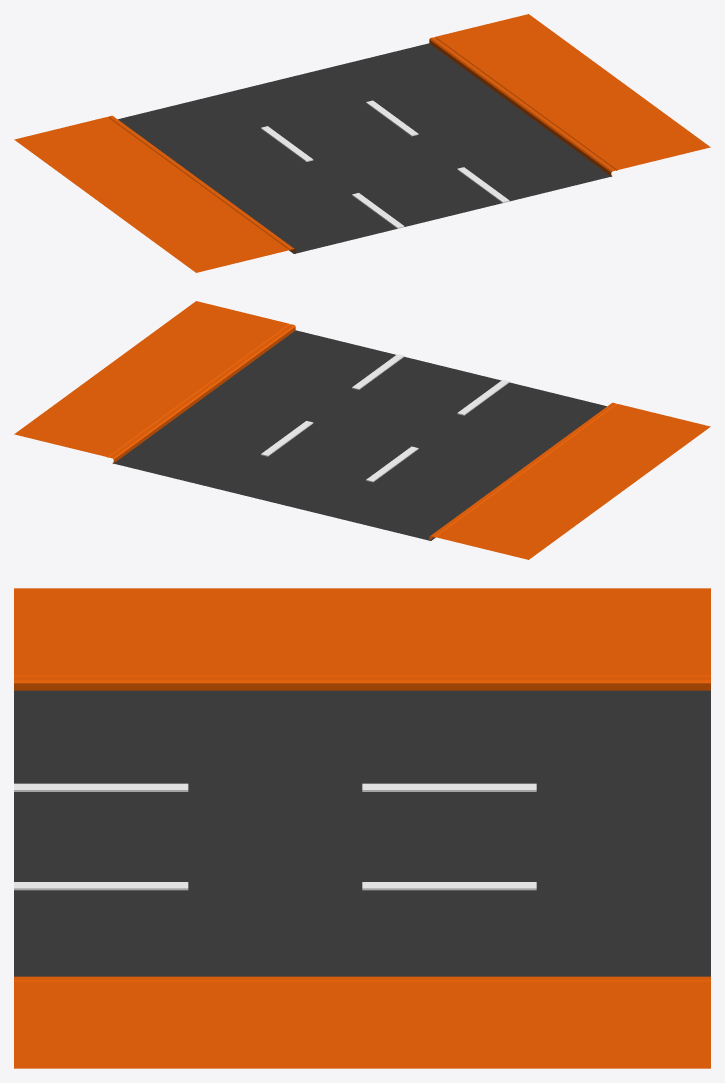
File: SM_Road.fbx
The picture shows the model from 3 angles, top to bottom: view 1: azimuth 30°, elevation 25°; view 2: azimuth 150°, elevation 25°; view 3: azimuth 270°, elevation 25°; orthographic projection. The views are drawn at different scales.
Visible parts, largest first — view 1: Box001, Sideroad003, Sideroad, Road; view 2: Box001, Sideroad003, Sideroad, Road; view 3: Box001, Sideroad, Sideroad003, Road.
Boxes of the visible parts, x1,y1,x2,y2 form: Box001: [118, 43, 612, 253]; Sideroad003: [429, 14, 710, 176]; Sideroad: [14, 115, 295, 272]; Road: [261, 100, 509, 228]; Box001: [112, 330, 606, 540]; Sideroad003: [14, 301, 295, 463]; Sideroad: [429, 402, 710, 559]; Road: [261, 354, 509, 482]; Box001: [14, 690, 710, 976]; Sideroad: [14, 588, 710, 690]; Sideroad003: [14, 976, 710, 1068]; Road: [14, 783, 536, 890].
Bounding box in the file's own units: 1860 × 20.23 × 1140.
